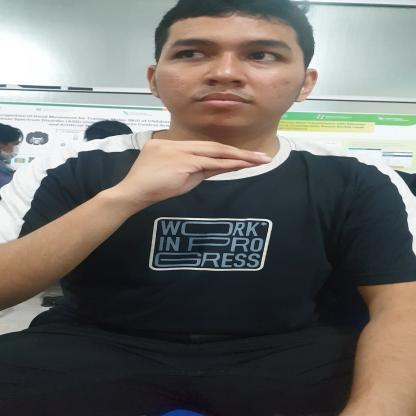Malam: (96, 134, 278, 226)
